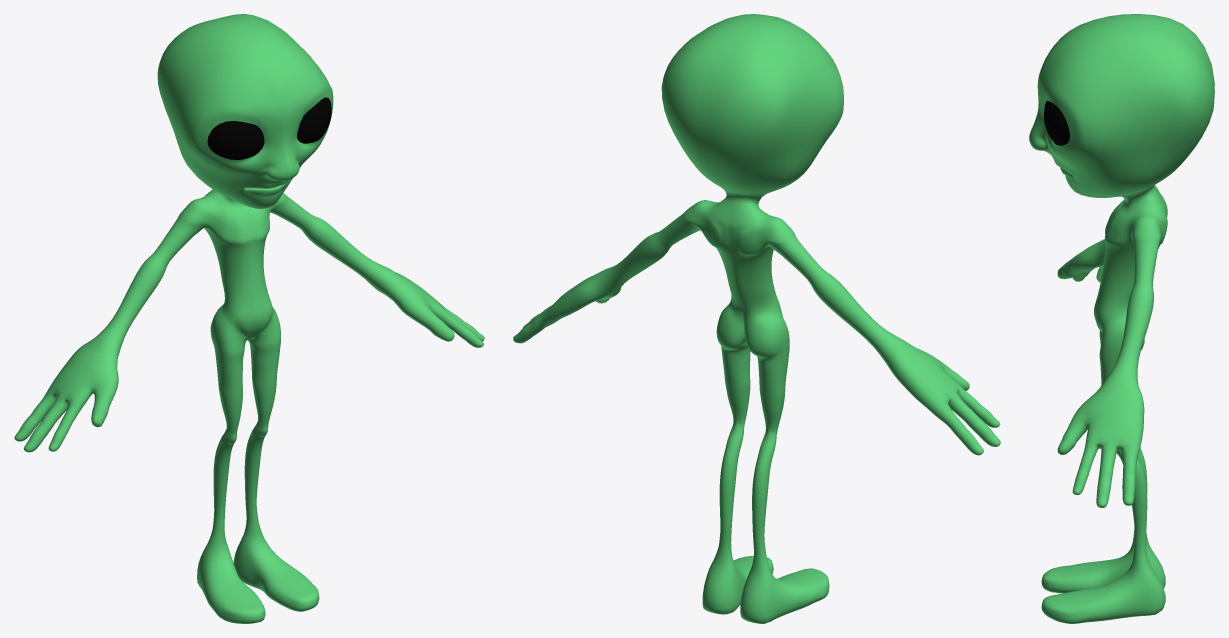
File: alienyt.fbx
3 renders of one model, left to right at view 1: azimuth 30°, elevation 25°; view 2: azimuth 150°, elevation 25°; view 3: azimuth 270°, elevation 25°, orthographic. The views are drawn at different scales.
Parts seen in each view (by area): view 1: Argise; view 2: Argise; view 3: Argise.
Boxes of the visible parts, x1,y1,x2,y2 form: Argise: (14, 14, 484, 623); Argise: (513, 14, 1000, 623); Argise: (1029, 14, 1214, 623).
Size of the model in its own units: 758 by 887 by 258.
